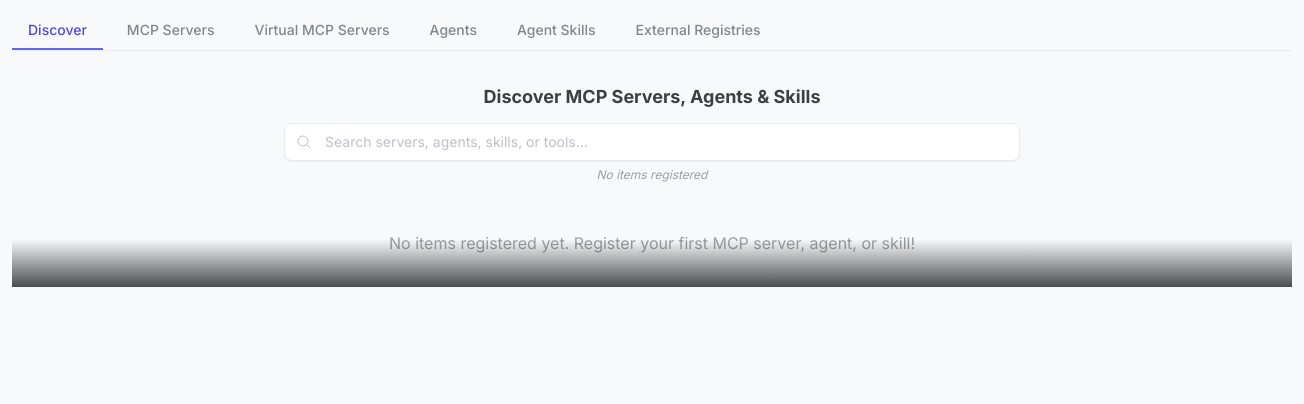
Test case: Dashboard entity collections › shows the server empty state with a register CTA when there are none
Click the button "MCP Servers" at (171, 31), box [111,12,230,50]
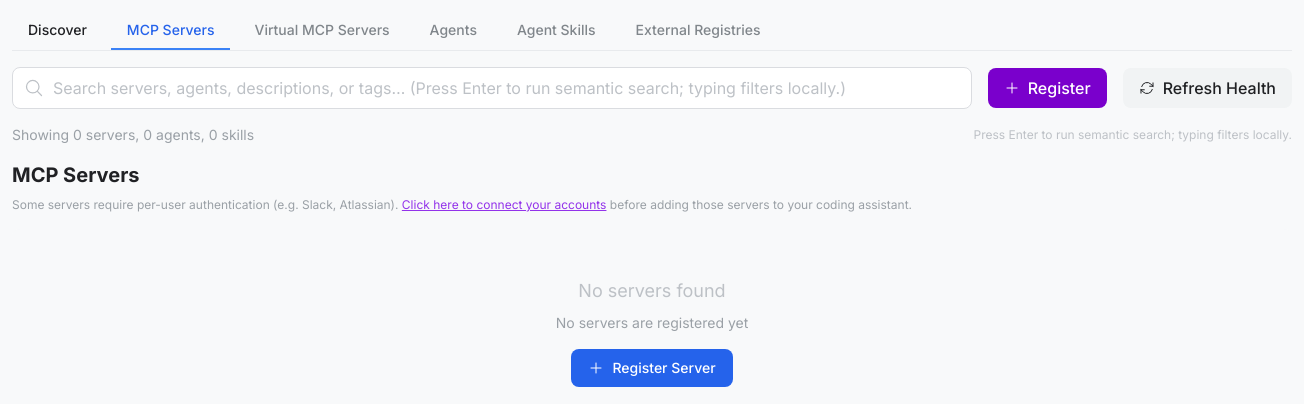
Check: the text "No servers found" is shown, box [578,280,726,301]
Check: the button "Register Server" is shown, box [571,349,733,387]
